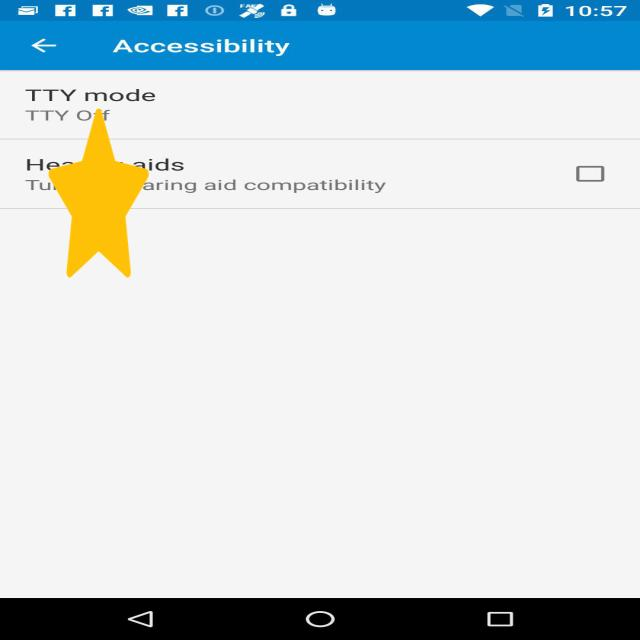forced continuity: (48, 108, 148, 278)
